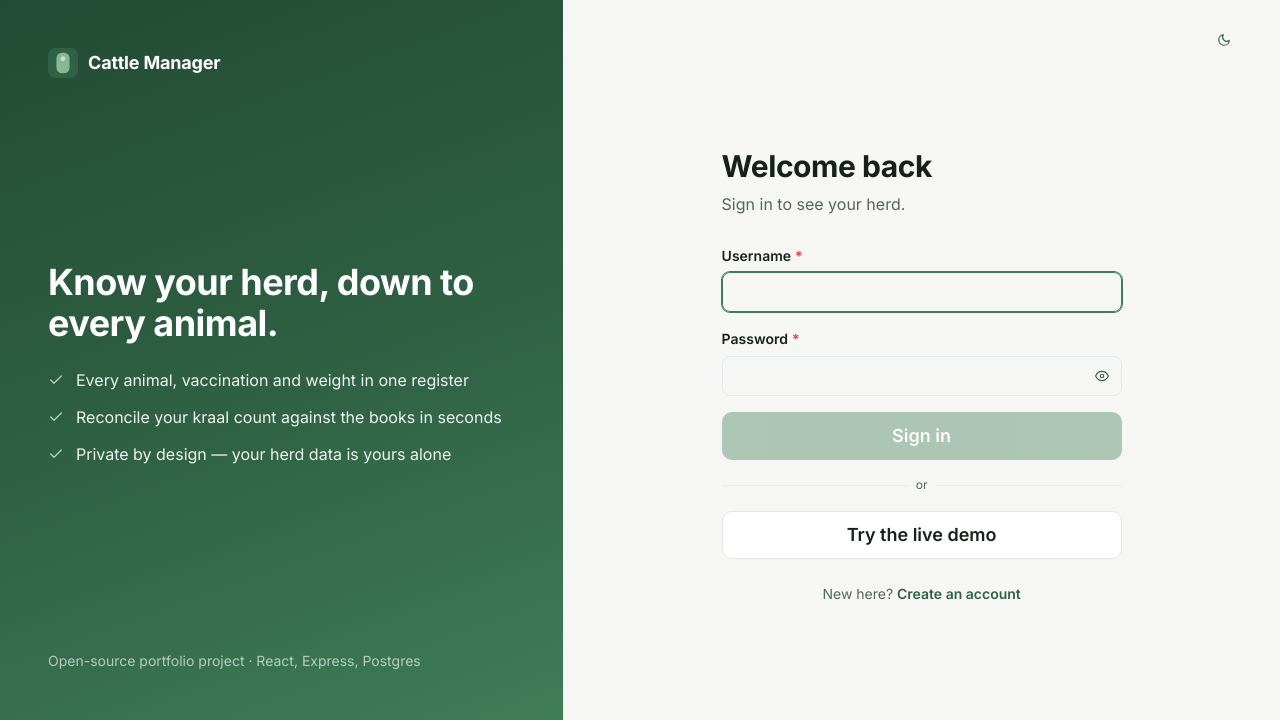
it: Login › keeps the button disabled until both fields are filled
Expected: the button "Sign in" is disabled, [722,412,1122,460]
Type "alice" into the field labelled "Username*" at coordinates (922, 292), box [722,272,1122,312]
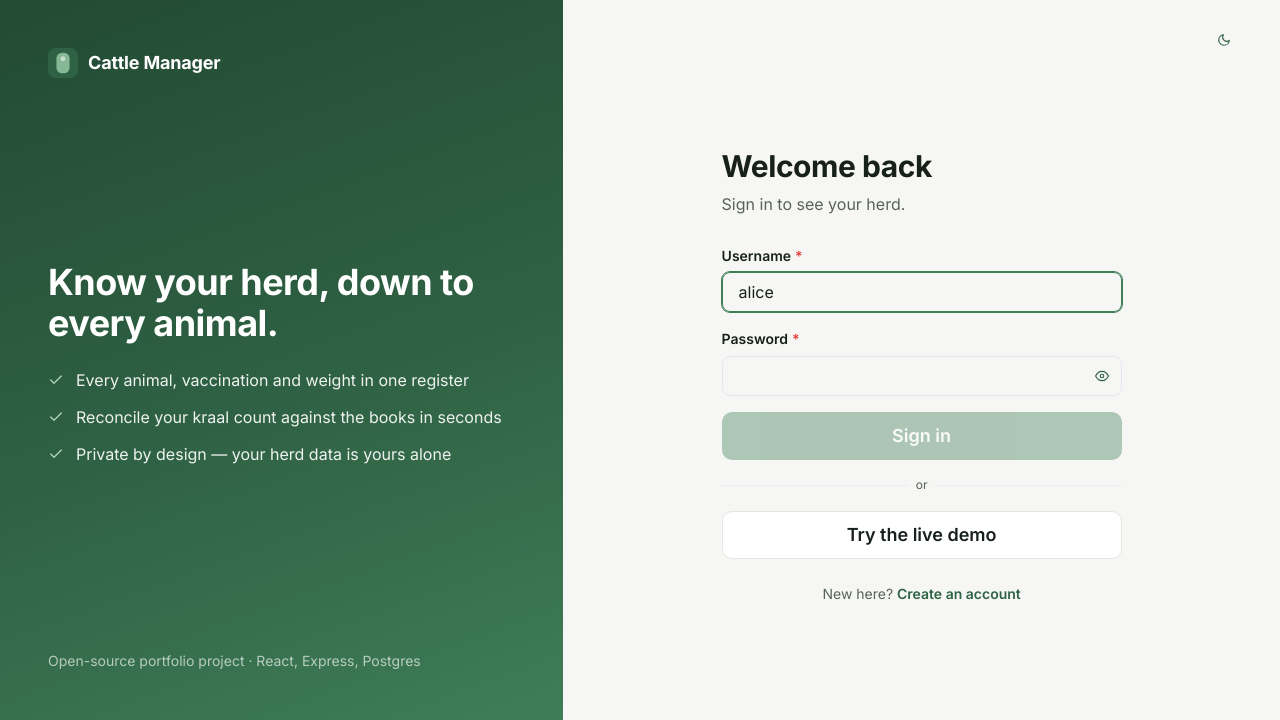
Expected: the button "Sign in" is disabled, [722,412,1122,460]
Type "correct-horse-battery" into the password field labelled "Password*" at coordinates (922, 376), box [722,356,1122,396]
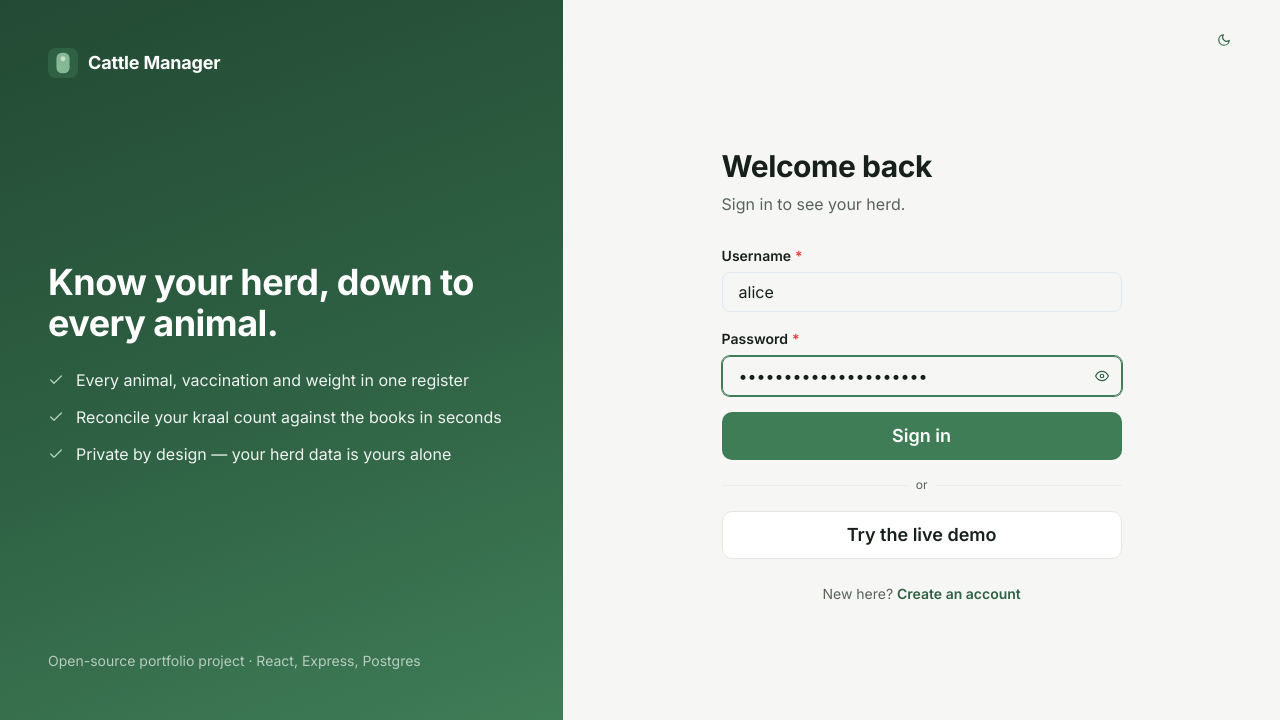
Now the button "Sign in" is enabled, box [722,412,1122,460]
